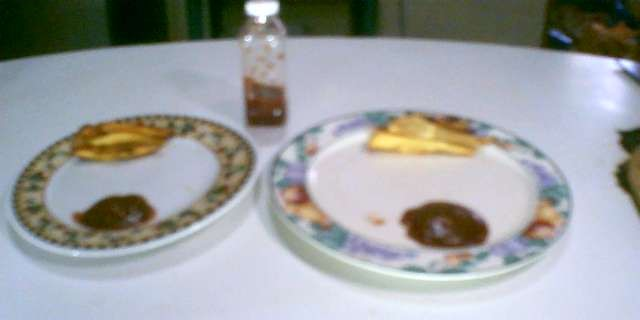ketchup_bottle: (233, 1, 291, 133)
ketchup_portion: (397, 191, 493, 251), (70, 190, 157, 231)
potatoe_fries: (366, 111, 483, 164), (69, 120, 177, 162)
